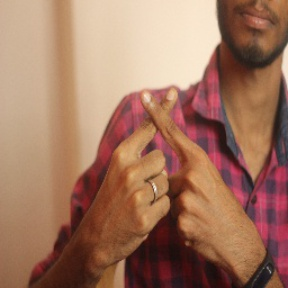X: (100, 77, 225, 188)
